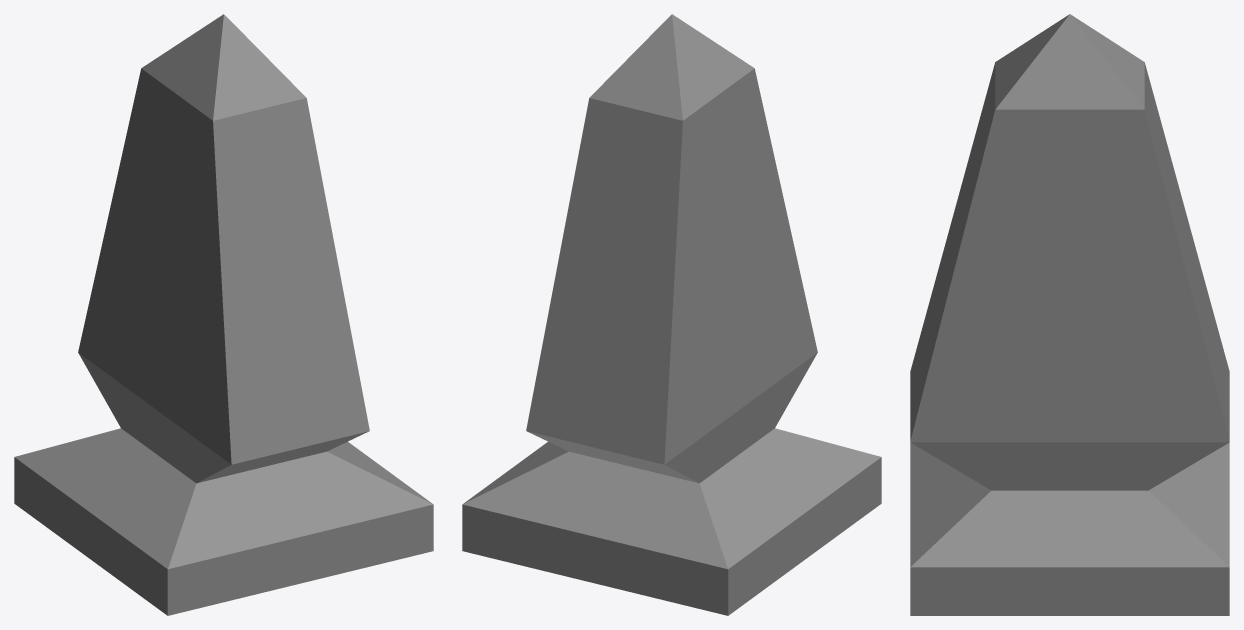
Rendered from statue.glb.
3 renders of one model, left to right at view 1: azimuth 30°, elevation 25°; view 2: azimuth 150°, elevation 25°; view 3: azimuth 270°, elevation 25°, orthographic. The views are drawn at different scales.
Visible parts, largest first — view 1: statue; view 2: statue; view 3: statue.
Part boxes in pixels (left/top/right/bottom): statue: left=14, top=14, right=433, bottom=615; statue: left=462, top=14, right=881, bottom=615; statue: left=910, top=14, right=1229, bottom=615.
Size of what is drawn, in the model's own units: 1.66 by 3.06 by 1.66.
Materials: 1 (1 with a texture image).
